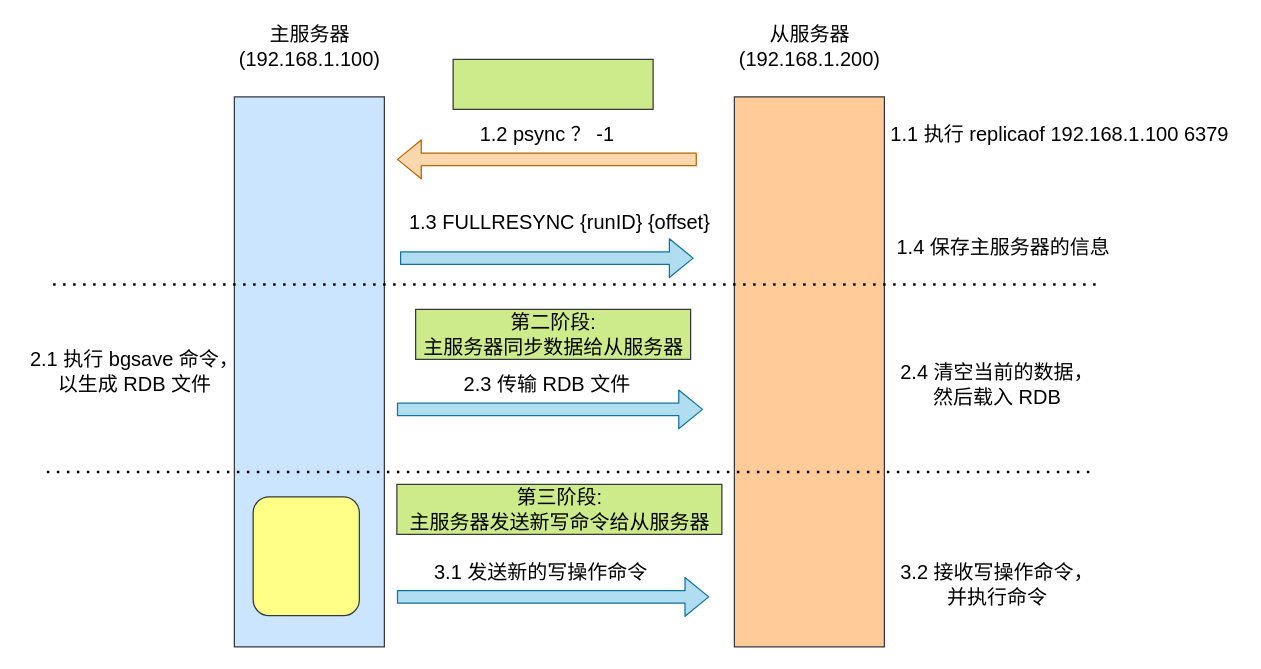
Some shapes in this 1261 by 669 pixel diagram are drawn without their labels. Here are the shapes that lost their labels. From the top down, the box of each, then its label:
(452, 58, 653, 109): 第一阶段： 建立链接、协商同步
(252, 496, 359, 616): 缓存新的写操作命令的缓冲区
